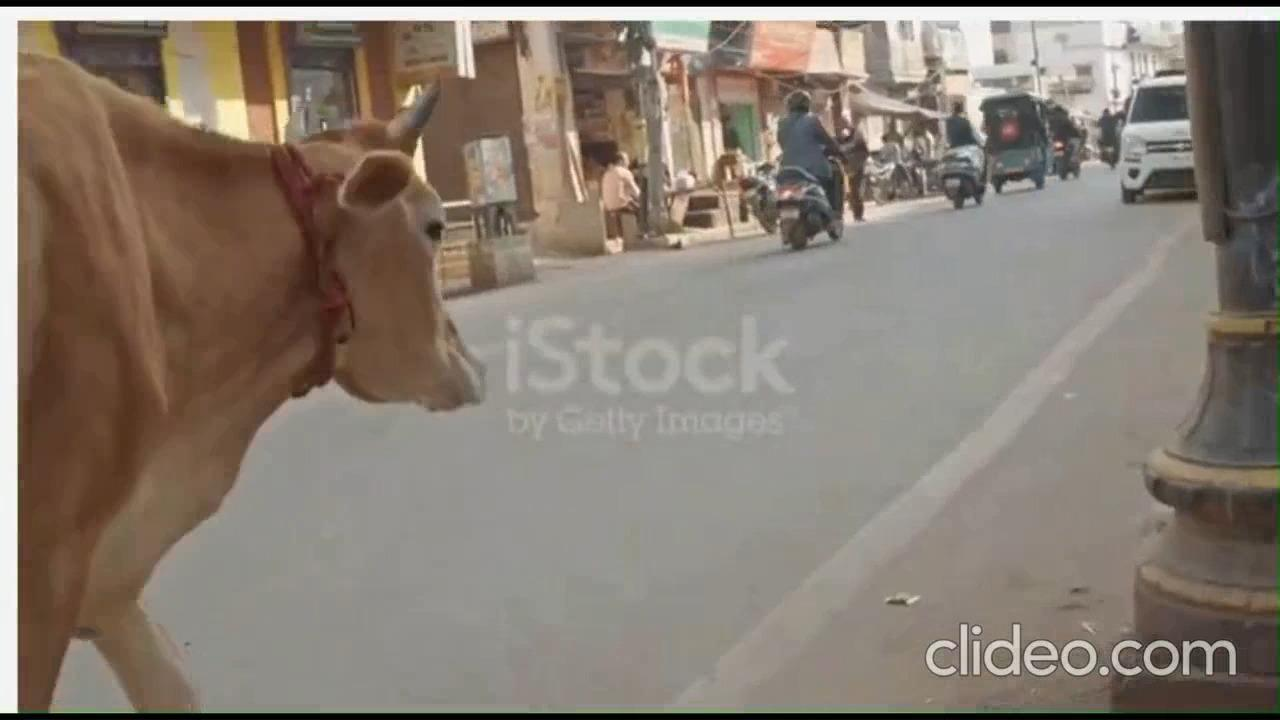Cow: (19, 54, 484, 715)
